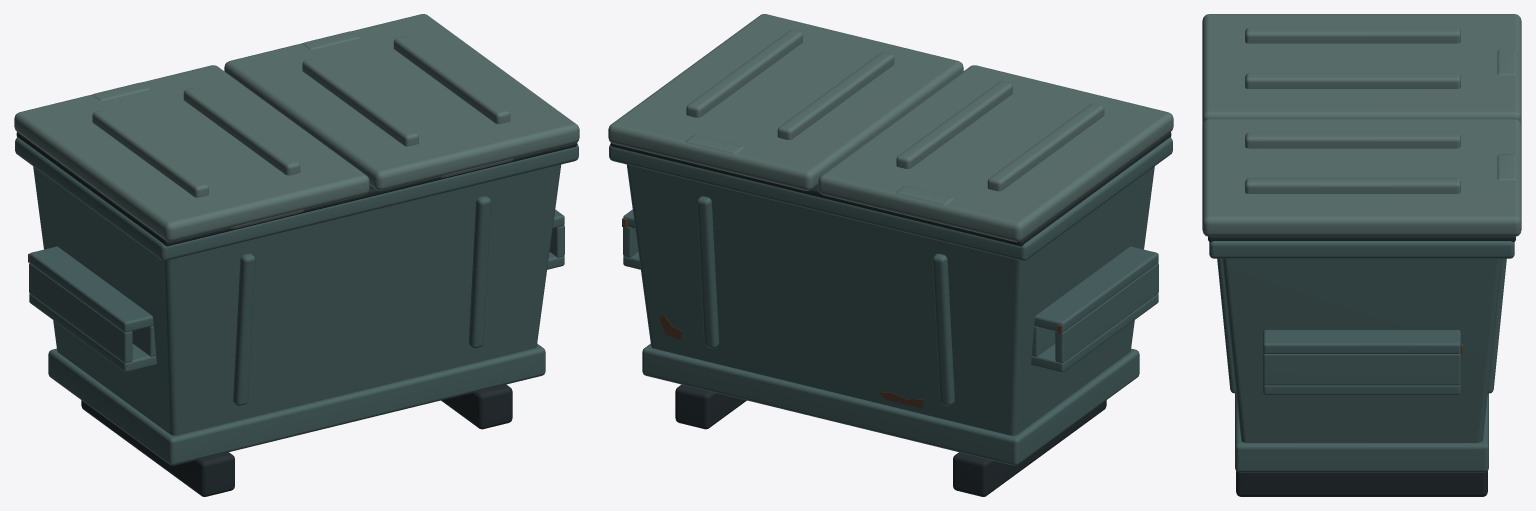
The model's file is city_waste_03.glb.
The picture shows the model from 3 angles, left to right: view 1: azimuth 30°, elevation 25°; view 2: azimuth 150°, elevation 25°; view 3: azimuth 270°, elevation 25°; orthographic projection. The views are drawn at different scales.
Visible parts, largest first — view 1: CityWaste03_Mesh; view 2: CityWaste03_Mesh; view 3: CityWaste03_Mesh.
Part boxes in pixels (x1,y1,x2,y2): CityWaste03_Mesh: (14, 14, 579, 496); CityWaste03_Mesh: (608, 14, 1173, 496); CityWaste03_Mesh: (1202, 14, 1521, 496).
Bounding box in the file's own units: 2.32 × 1.55 × 1.42.
